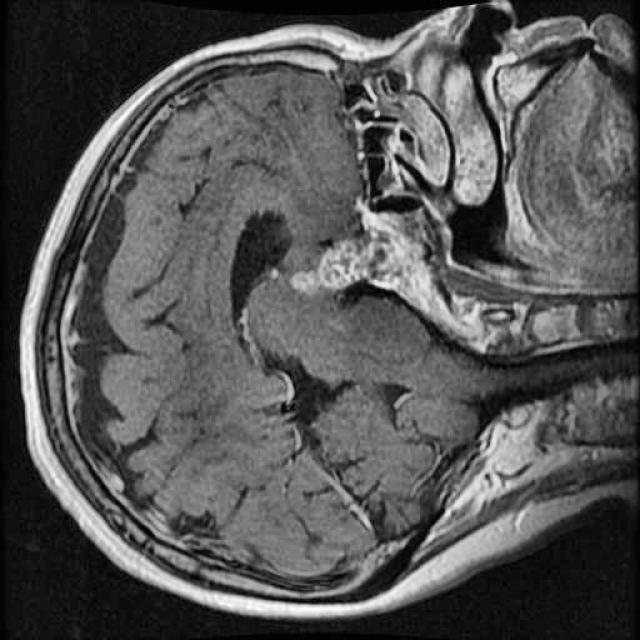Tumor: (278, 219, 414, 310)
